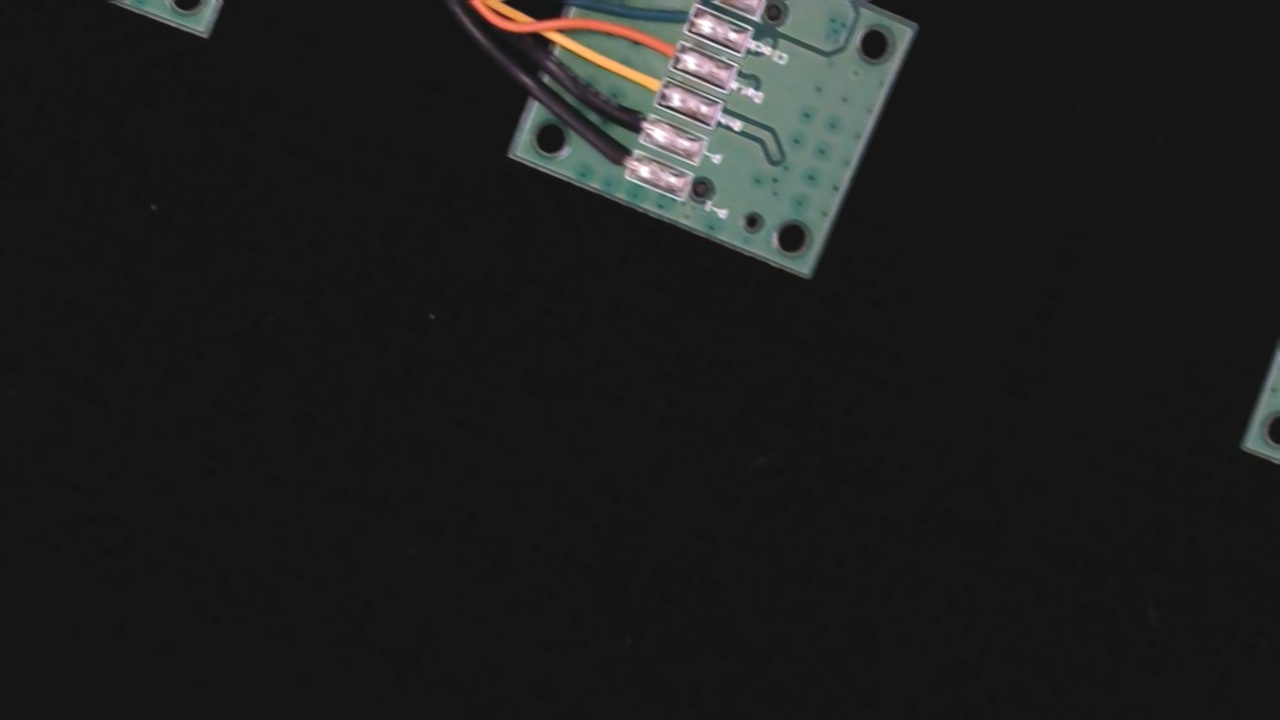Black: (594, 93, 667, 146)
Black1: (579, 131, 654, 187)
Green: (646, 0, 715, 39)
Orange: (621, 19, 699, 75)
Red: (664, 0, 730, 2)
Yellow: (603, 54, 684, 112)
